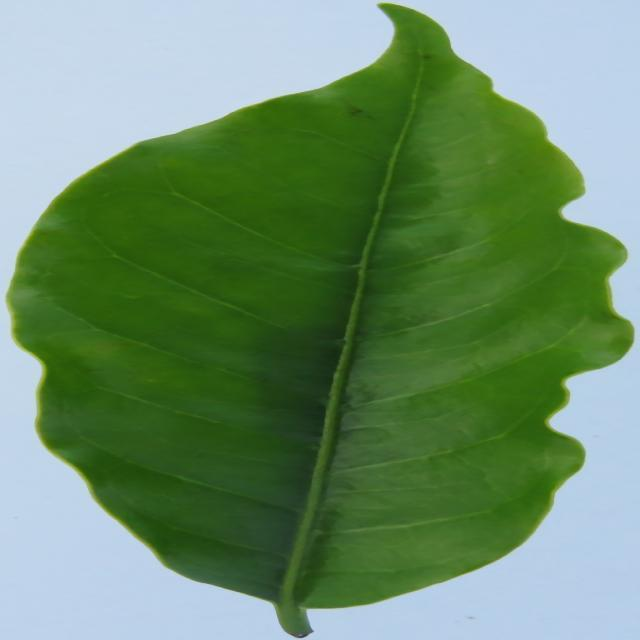DeficienciaNutricional-Calcio: (9, 4, 632, 638)
